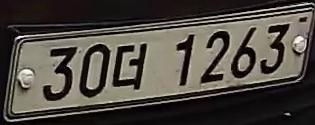0: (79, 41, 112, 100)
1: (169, 32, 197, 89)
2: (198, 29, 231, 85)
3: (40, 45, 78, 102), (258, 22, 291, 76)
6: (230, 24, 258, 81)
더: (112, 40, 149, 95)
